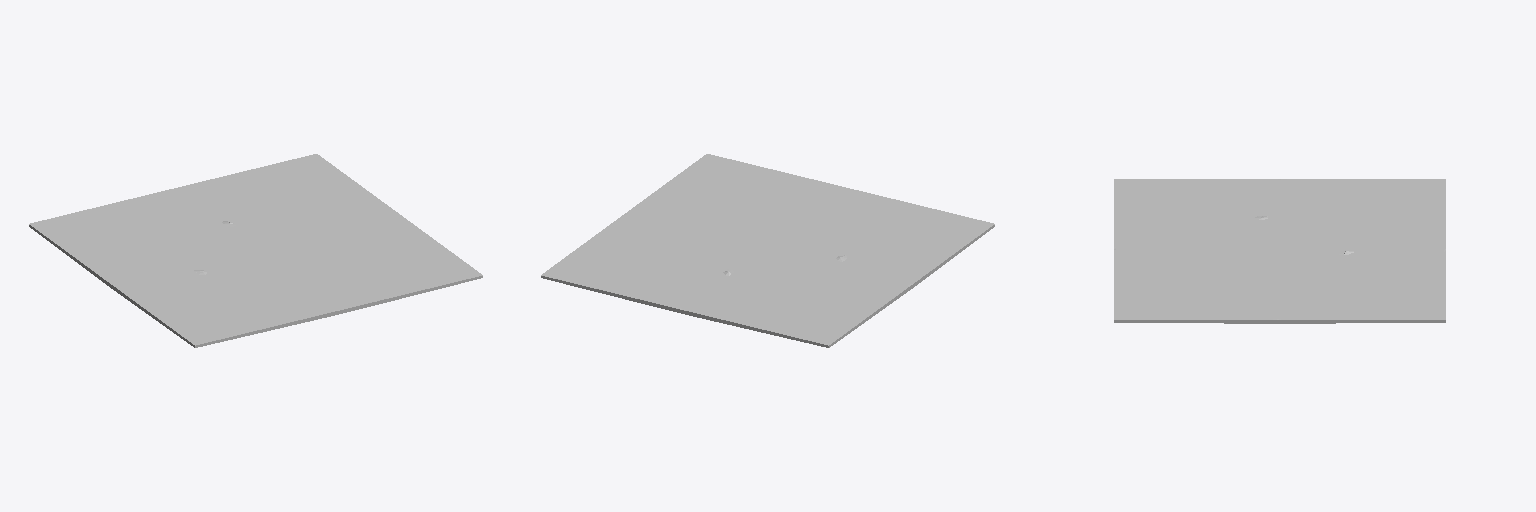
File: plane_simp.obj
3 views of the same model, side by side, from view 1: azimuth 30°, elevation 25°; view 2: azimuth 150°, elevation 25°; view 3: azimuth 270°, elevation 25° (orthographic).
Size of the model in its own units: 3 by 0.1743 by 3.